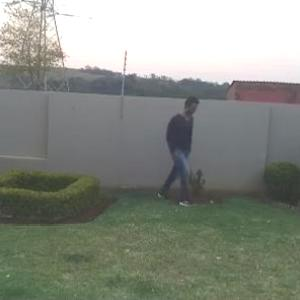follow: (162, 97, 194, 201)
